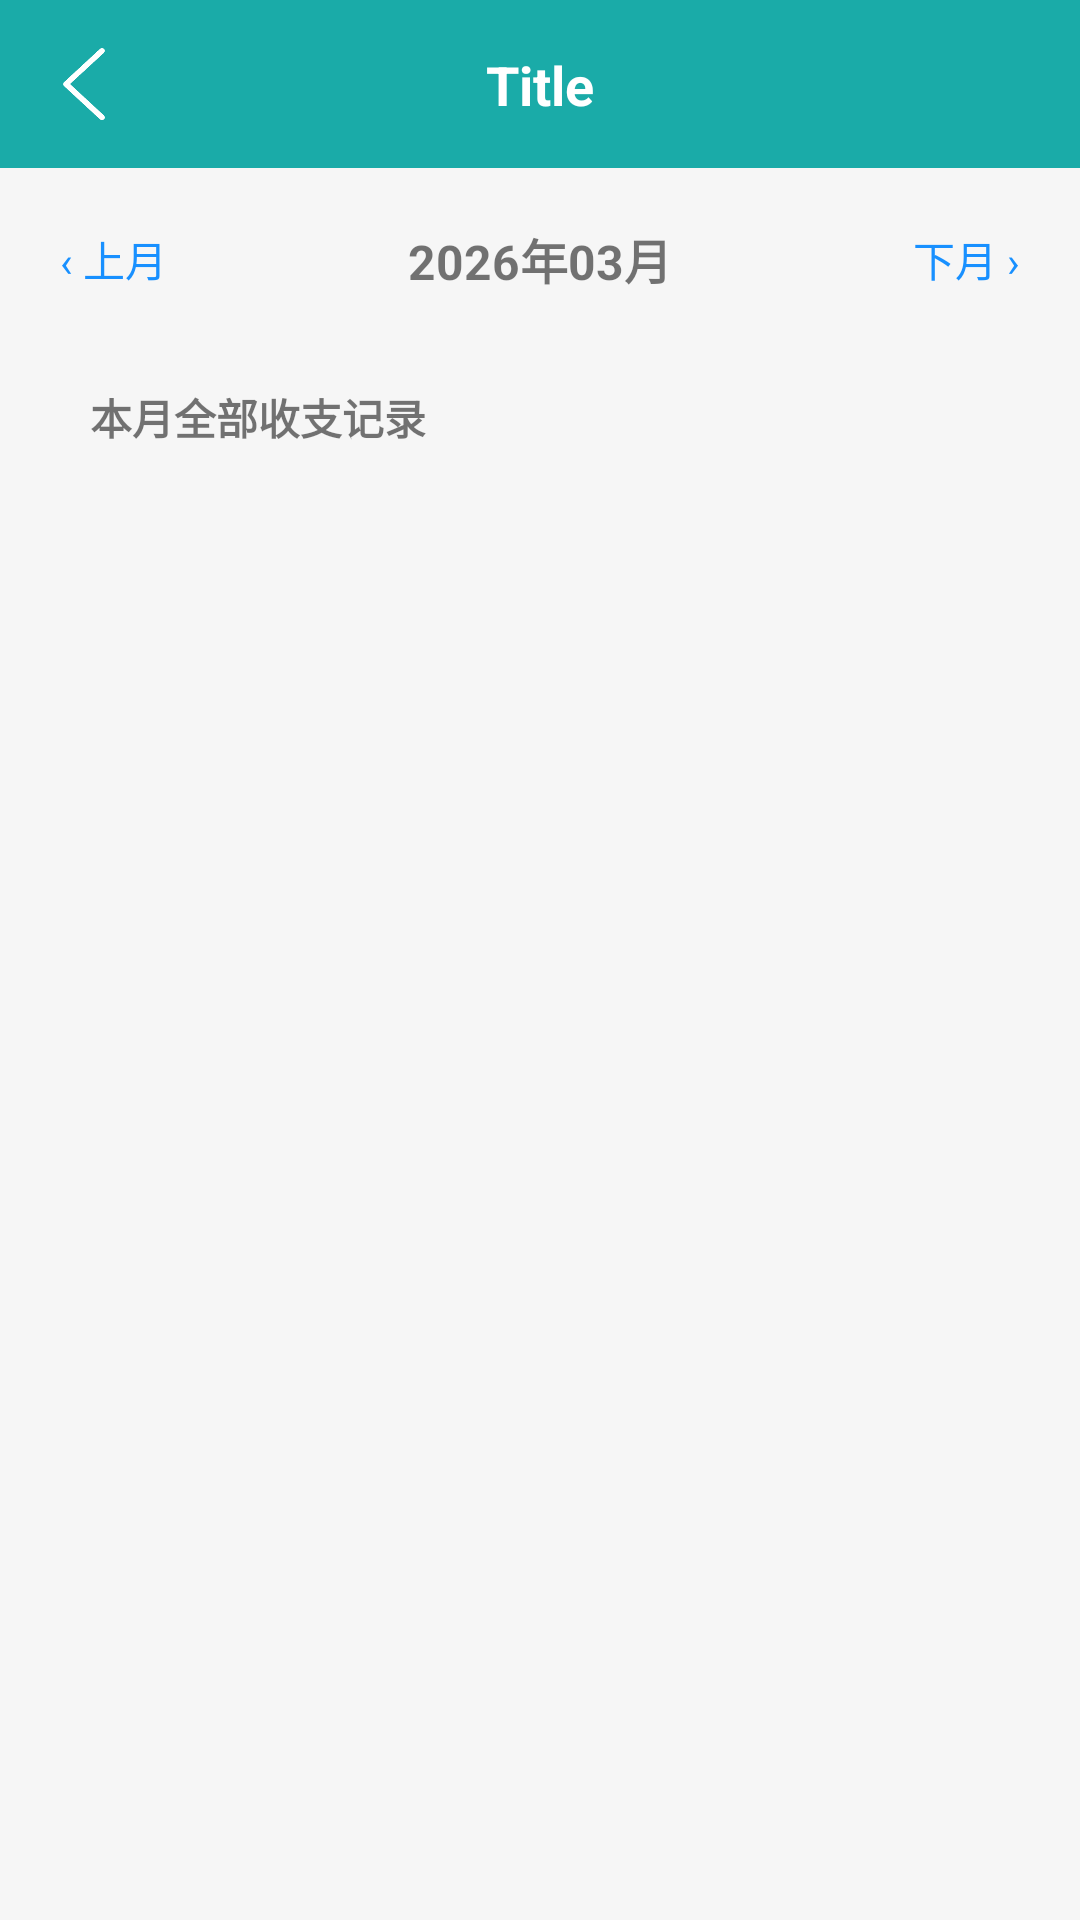

Icon click points for this 1080*1920 phone screenshot, format point (x, y):
back: point (84, 84)
